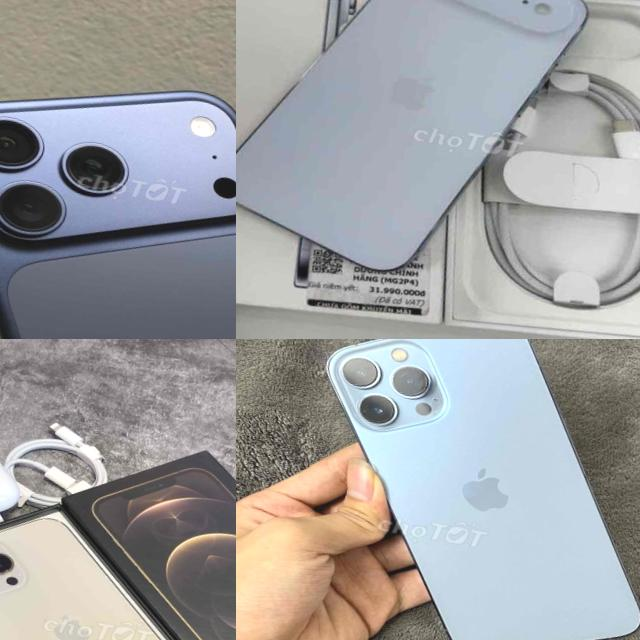gen_12_13: (272, 339, 640, 640), (0, 503, 236, 640)
gen_17: (236, 0, 600, 295), (0, 37, 236, 339)
